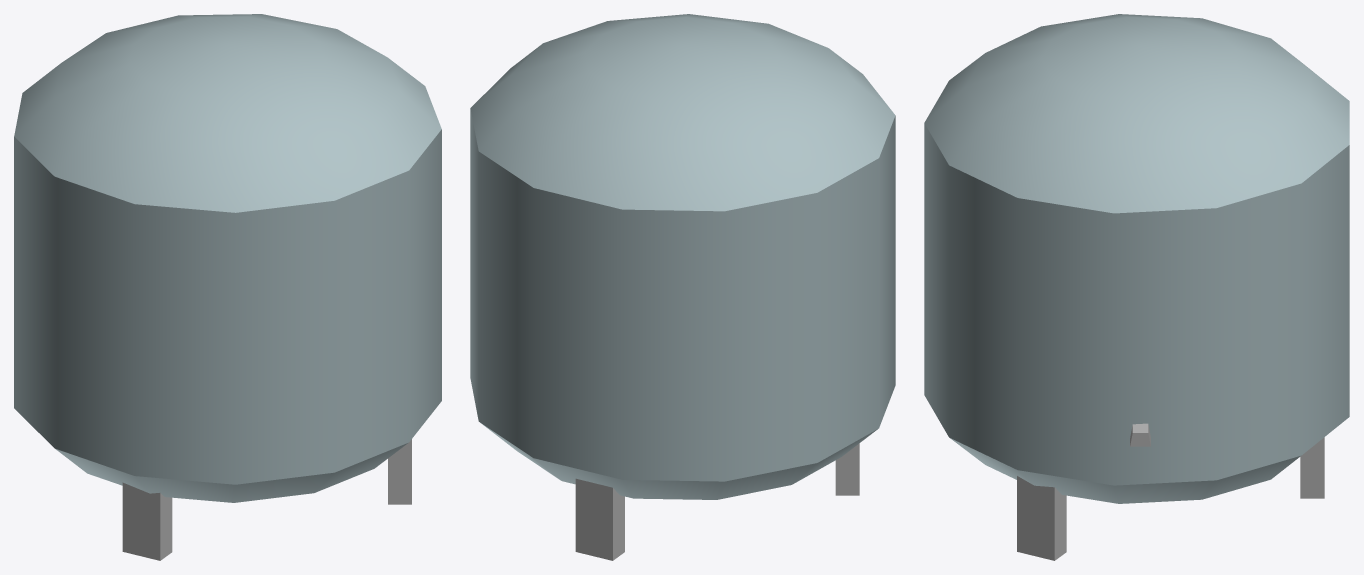
The model's file is SM_Barrel_02.fbx.
3 renders of one model, left to right at view 1: azimuth 30°, elevation 25°; view 2: azimuth 150°, elevation 25°; view 3: azimuth 270°, elevation 25°, orthographic.
Parts seen in each view (by area): view 1: SM_Barrel_02; view 2: SM_Barrel_02; view 3: SM_Barrel_02.
Boxes of the visible parts, x1,y1,x2,y2 form: SM_Barrel_02: [14, 14, 441, 560]; SM_Barrel_02: [470, 14, 895, 560]; SM_Barrel_02: [924, 14, 1349, 560].
Bounding box in the file's own units: 64.04 × 70.56 × 61.01.
